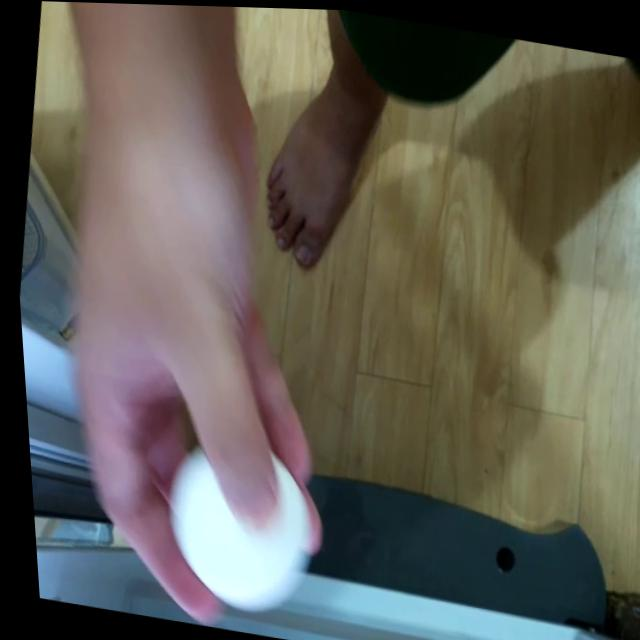egg: (144, 418, 333, 616)
